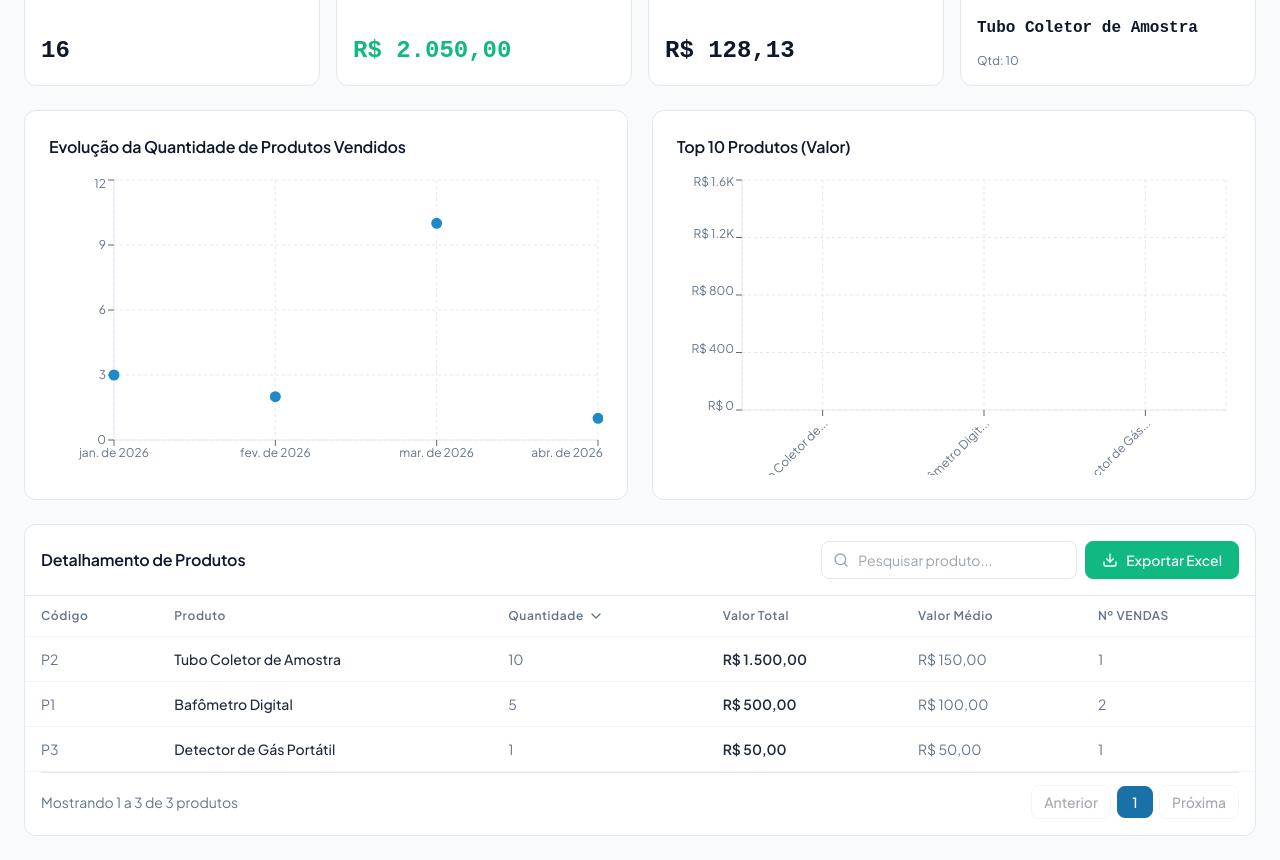
Test: tabela de Produtos › com a busca sem resultado, o botao de exportar tambem desabilita
The width and height of the screenshot is (1280, 860).
(page scrolled)
Type "termo que nao existe em produto nenhum" into the field with placeholder "Pesquisar produto..." at (949, 560), box [821,541,1077,579]
(page scrolled)
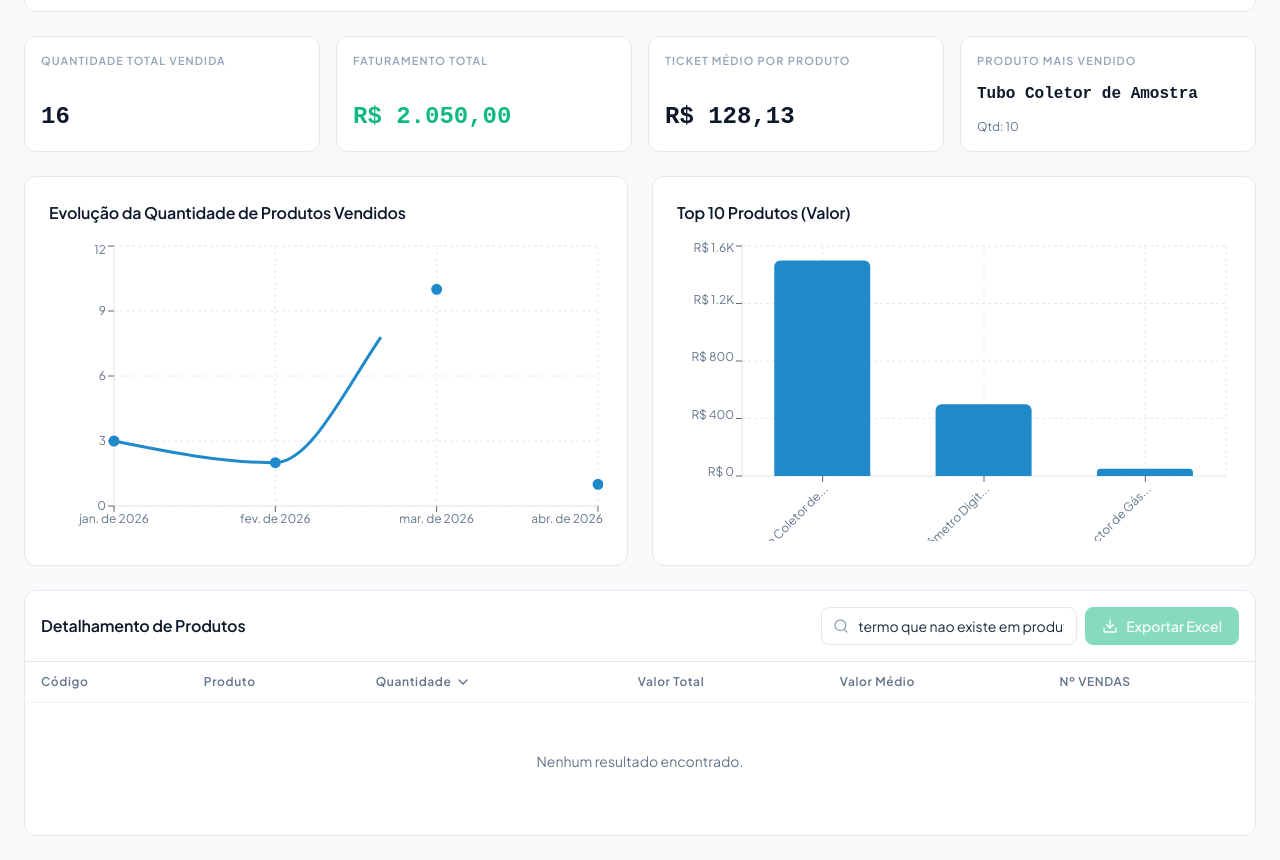
expect the button "Exportar Excel" is disabled: met, box [1085,607,1239,645]
